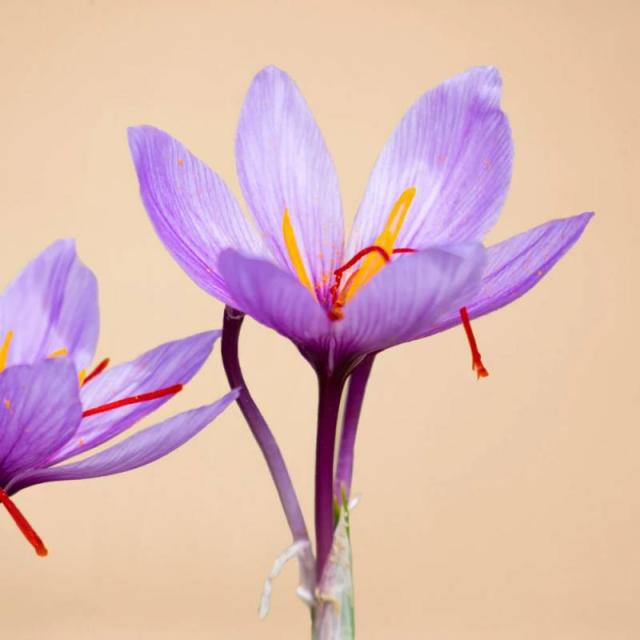saffron open: (130, 68, 590, 581), (0, 240, 235, 554)
